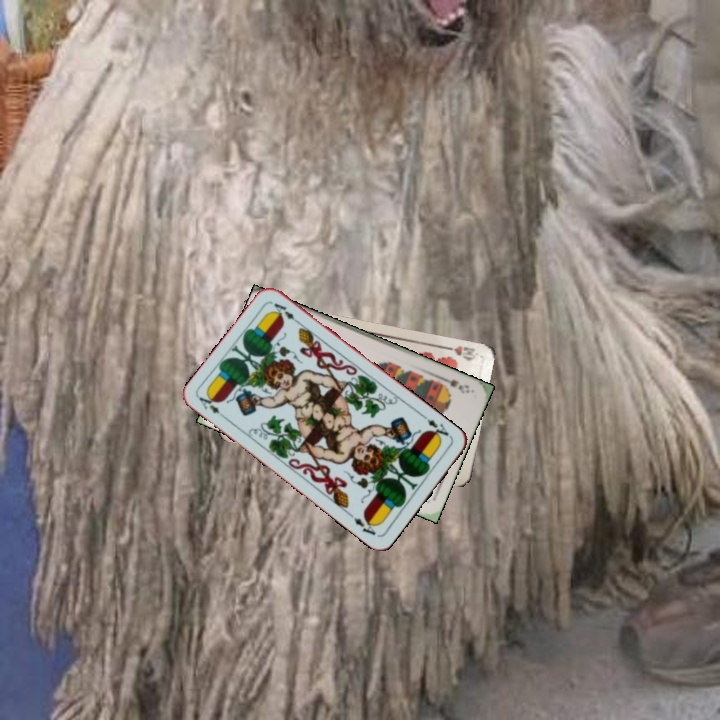EA: (419, 411, 454, 443), (195, 391, 230, 422)
H10: (440, 341, 480, 363)
S9: (436, 372, 472, 396)
